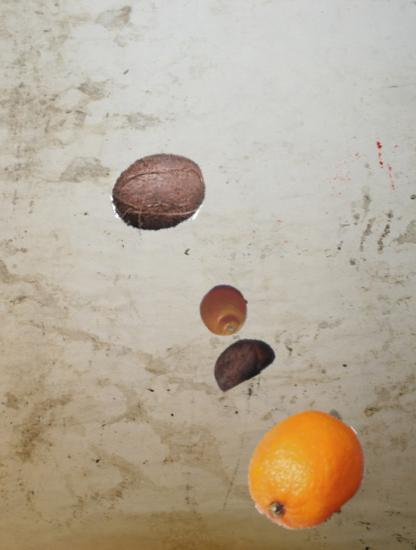Chestnut: (208, 327, 276, 395)
Cocos: (112, 148, 209, 245)
Lemon: (243, 407, 369, 533)
Tangelo: (198, 284, 251, 337)
